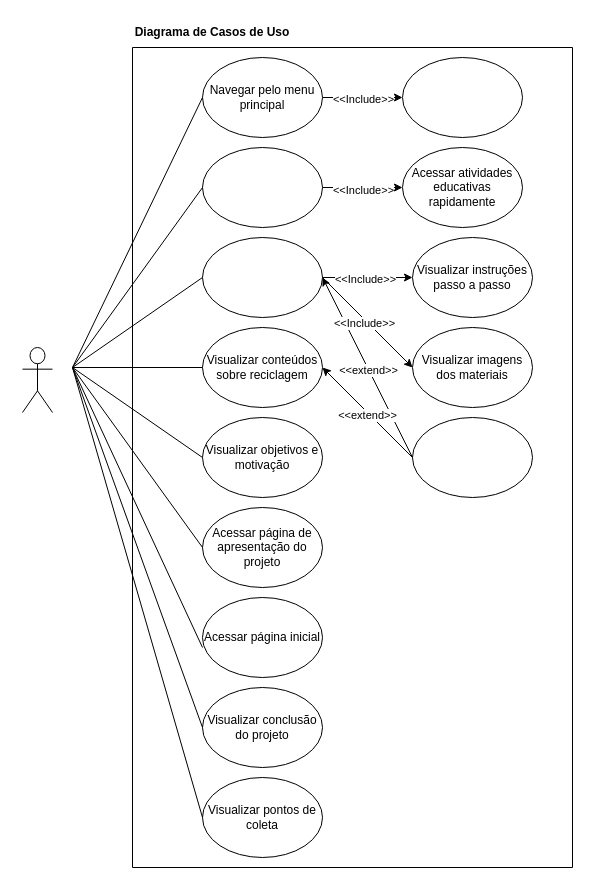
Some shapes in this 590 by 885 pixel diagram are drawn without their labels. The shapes that lost their labels are listed below. From the top down, each one's centre as x and y in pixels, then its label:
[462,97]: Navegar entre páginas
[262,187]: Acessar atividades interativas
[262,277]: Visualizar ideias de brinquedos recicláveis
[37,379]: Usuário
[472,457]: Filtrar conteúdos por categoria
